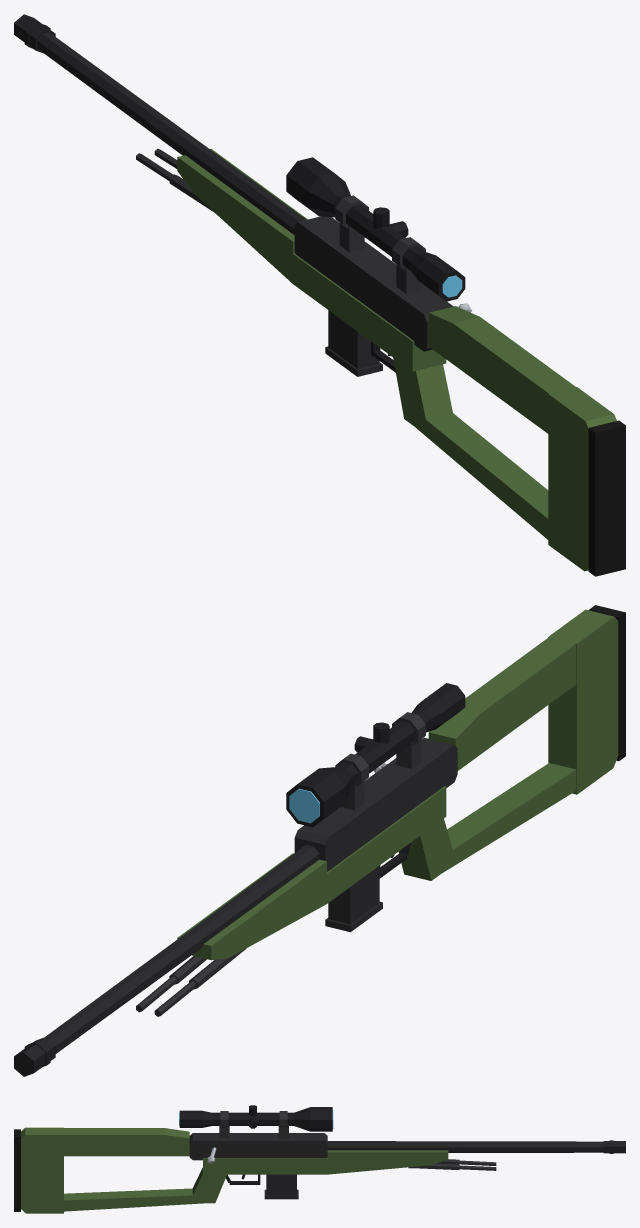
Rendered from Frostbite.glb.
The picture shows the model from 3 angles, top to bottom: view 1: azimuth 30°, elevation 25°; view 2: azimuth 150°, elevation 25°; view 3: azimuth 270°, elevation 25°; orthographic projection. The views are drawn at different scales.
Parts seen in each view (by area): view 1: Stock, Body, Barrel, Scope, Pad, Magazine, Mount, Bipod, Muzzle; view 2: Stock, Body, Barrel, Scope, Magazine, Mount, Bipod, Pad, Muzzle, Lens; view 3: Stock, Body, Barrel, Scope, Magazine, Bipod, Pad, Mount, Muzzle, Trigger.
Part boxes in pixels (bbox=[...]): Stock: bbox=[177, 148, 616, 571]; Body: bbox=[294, 216, 453, 351]; Barrel: bbox=[37, 32, 306, 234]; Scope: bbox=[286, 157, 465, 301]; Pad: bbox=[588, 420, 625, 576]; Magazine: bbox=[325, 310, 382, 376]; Mount: bbox=[335, 195, 425, 293]; Bipod: bbox=[136, 148, 215, 213]; Muzzle: bbox=[14, 14, 55, 53]; Stock: bbox=[177, 609, 618, 960]; Body: bbox=[294, 737, 457, 871]; Barrel: bbox=[45, 844, 319, 1053]; Scope: bbox=[286, 683, 465, 827]; Magazine: bbox=[325, 866, 382, 932]; Mount: bbox=[335, 712, 425, 810]; Bipod: bbox=[136, 949, 245, 1016]; Pad: bbox=[589, 605, 625, 761]; Muzzle: bbox=[14, 1037, 55, 1076]; Lens: bbox=[289, 788, 319, 823]; Stock: bbox=[21, 1127, 448, 1213]; Body: bbox=[189, 1133, 327, 1160]; Barrel: bbox=[327, 1141, 603, 1152]; Scope: bbox=[179, 1105, 332, 1131]; Magazine: bbox=[264, 1174, 298, 1199]; Bipod: bbox=[408, 1159, 496, 1170]; Pad: bbox=[14, 1129, 20, 1211]; Mount: bbox=[219, 1111, 288, 1138]; Muzzle: bbox=[603, 1140, 625, 1153]; Trigger: bbox=[226, 1174, 260, 1184].
Bounding box in the file's own units: 0.3966 × 1.12 × 5.99.
